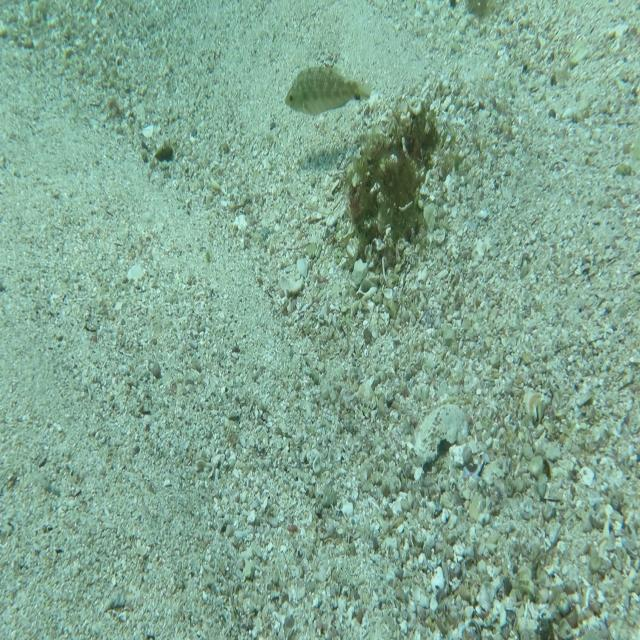SA: (283, 61, 373, 120)
core_nest: (394, 122, 428, 157)
nest: (347, 88, 447, 278)
vegetation: (156, 137, 178, 169), (462, 0, 492, 21), (106, 94, 122, 125)
